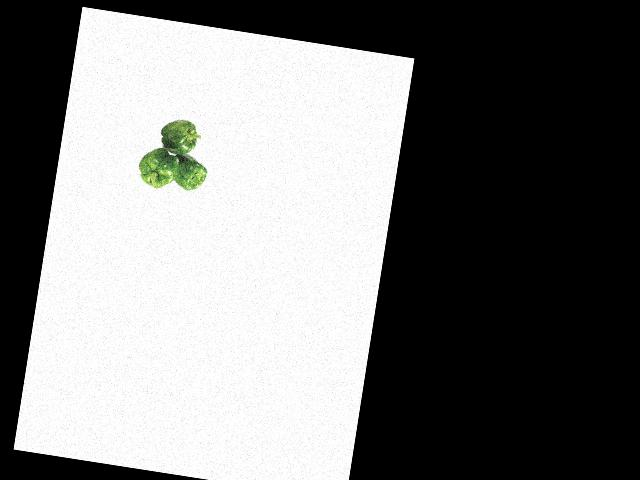bell_pepper: (132, 144, 182, 194)
